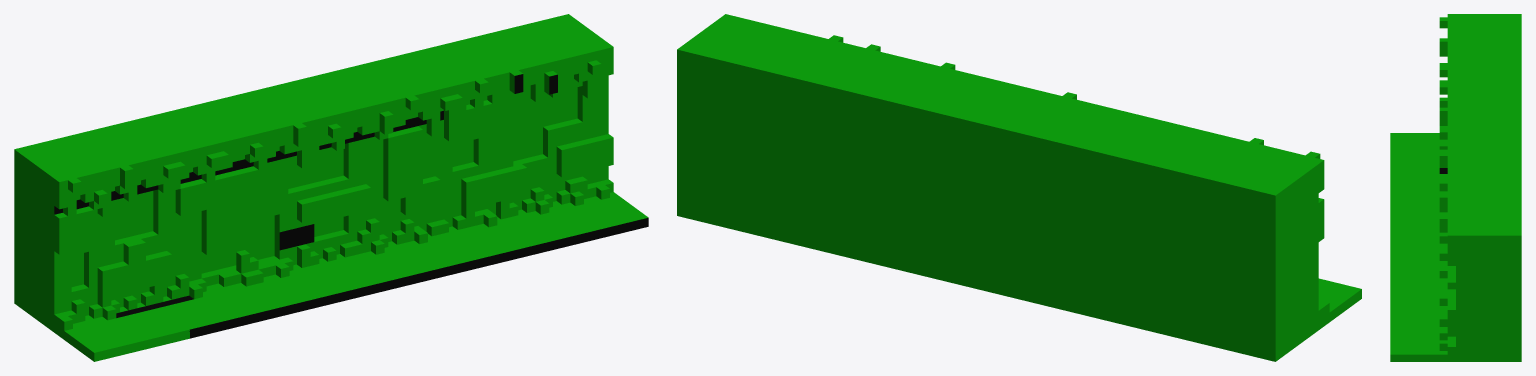
The model's file is Straight7.fbx.
The picture shows the model from 3 angles, left to right: view 1: azimuth 30°, elevation 25°; view 2: azimuth 150°, elevation 25°; view 3: azimuth 270°, elevation 25°; orthographic projection. The views are drawn at different scales.
Visible parts, largest first — view 1: Ground, Cliff; view 2: Cliff, Ground; view 3: Ground, Cliff.
Part boxes in pixels (bbox=[...]): Ground: bbox=[14, 14, 648, 361]; Cliff: bbox=[14, 75, 613, 332]; Cliff: bbox=[677, 59, 1324, 361]; Ground: bbox=[677, 14, 1361, 329]; Ground: bbox=[1390, 14, 1521, 361]; Cliff: bbox=[1447, 243, 1521, 361].
Bounding box in the file's own units: 64 × 17 × 16.
